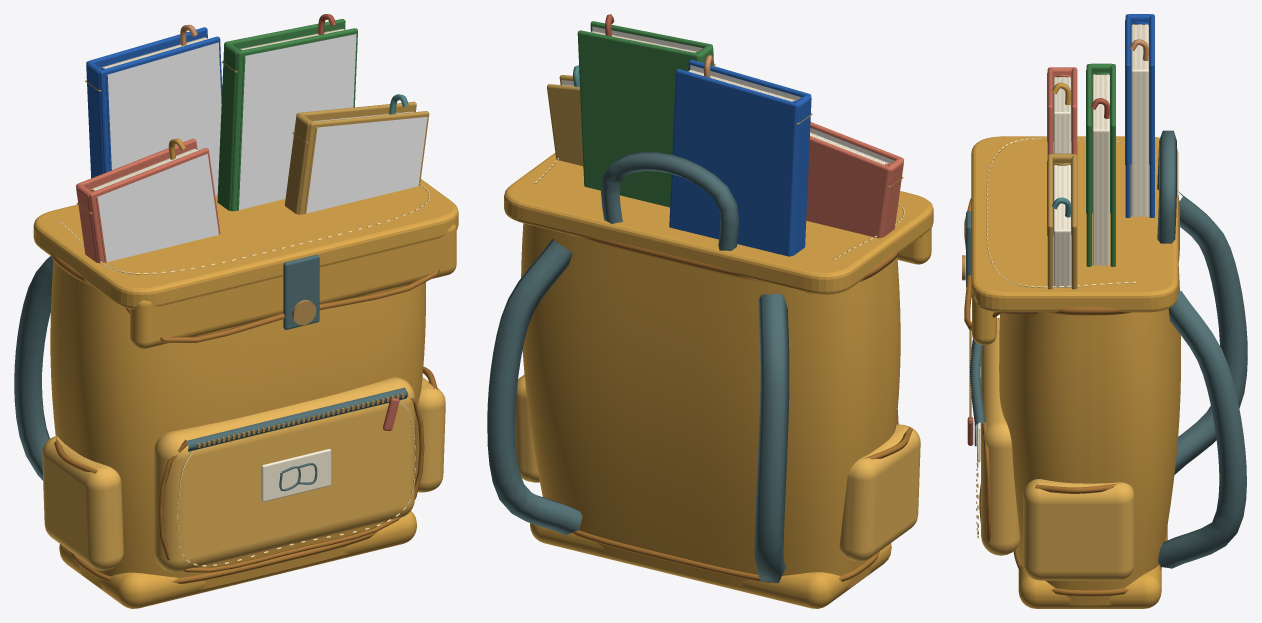
Rendered from schoolbag-v5.glb.
The picture shows the model from 3 angles, left to right: view 1: azimuth 30°, elevation 25°; view 2: azimuth 150°, elevation 25°; view 3: azimuth 270°, elevation 25°; orthographic projection. The views are drawn at different scales.
Visible parts, largest first — view 1: FabricBody, FrontPocket, FlapOuter, CoverArt_english, FlapApron, CoverArt_math, CoverArt_chinese, CoverArt_science, SidePocket-1, RearStrap-1, SoftBase, SidePocket1 (+19 smaller); view 2: FabricBody, FlapOuter, BackCover_1, BackCover_2, RearStrap1, RearStrap-1, SidePocket-1, BackCover_0, SoftBase, CarryHandle, BackCover_3, Spine_1 (+8 smaller); view 3: FabricBody, FlapOuter, SidePocket1, RearStrap1, RearStrap-1, FrontPocket, Pages_1, Pages_2, SoftBase, CarryHandle, Pages_3, PageEdges_1 (+23 smaller).
Boxes of the visible parts, box(x1,y1,x2,y2) form: FabricBody: box(50, 261, 425, 589); FrontPocket: box(154, 377, 414, 572); FlapOuter: box(33, 179, 458, 309); CoverArt_english: box(239, 34, 356, 209); FlapApron: box(130, 224, 456, 348); CoverArt_math: box(107, 42, 221, 195); CoverArt_chinese: box(97, 154, 218, 261); CoverArt_science: box(306, 117, 427, 213); SidePocket-1: box(42, 436, 123, 570); RearStrap-1: box(14, 256, 53, 480); SoftBase: box(59, 511, 416, 608); SidePocket1: box(415, 377, 445, 492); FabricBody: box(521, 223, 900, 589); FlapOuter: box(504, 153, 933, 294); BackCover_1: box(669, 69, 798, 256); BackCover_2: box(577, 30, 699, 207); RearStrap1: box(487, 239, 582, 535); RearStrap-1: box(754, 293, 789, 583); SidePocket-1: box(839, 424, 920, 561); BackCover_0: box(806, 136, 890, 238); SoftBase: box(530, 523, 891, 608); CarryHandle: box(601, 152, 738, 250); BackCover_3: box(547, 84, 583, 165); Spine_1: box(791, 94, 811, 255); FabricBody: box(999, 265, 1180, 605); FlapOuter: box(971, 136, 1178, 312); SidePocket1: box(1023, 479, 1134, 580); RearStrap1: box(1158, 291, 1246, 568); RearStrap-1: box(1174, 191, 1247, 474); FrontPocket: box(981, 318, 1020, 555); Pages_1: box(1131, 24, 1148, 216); Pages_2: box(1092, 74, 1109, 265); SoftBase: box(1018, 565, 1161, 608); CarryHandle: box(1157, 130, 1176, 243); Pages_3: box(1053, 165, 1070, 287); PageEdges_1: box(1132, 25, 1148, 216).
Bounding box in the file's own units: 2.91 × 3.93 × 2.05.
